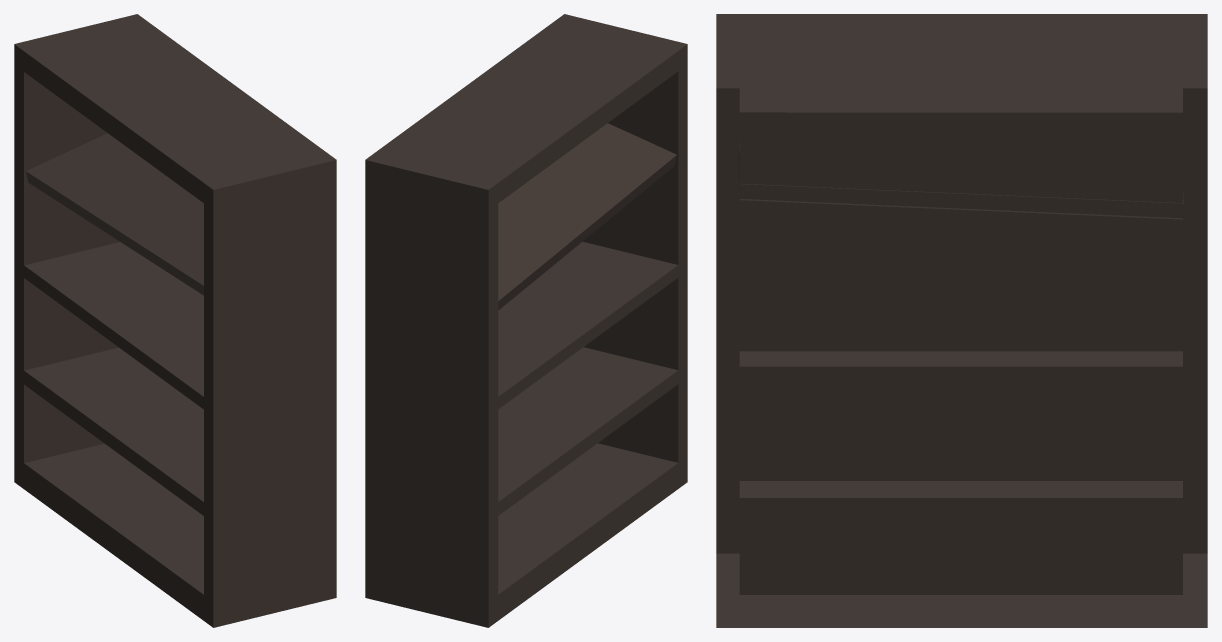
The model's file is bookcase.fbx.
The picture shows the model from 3 angles, left to right: view 1: azimuth 30°, elevation 25°; view 2: azimuth 150°, elevation 25°; view 3: azimuth 270°, elevation 25°; orthographic projection. The views are drawn at different scales.
Parts seen in each view (by area): view 1: bookcase; view 2: bookcase; view 3: bookcase.
Boxes of the visible parts, box(x1,y1,x2,y2) form: bookcase: box(14, 14, 336, 627); bookcase: box(365, 14, 687, 627); bookcase: box(716, 14, 1207, 627).
Size of the model in its own units: 149 by 496 by 410.
